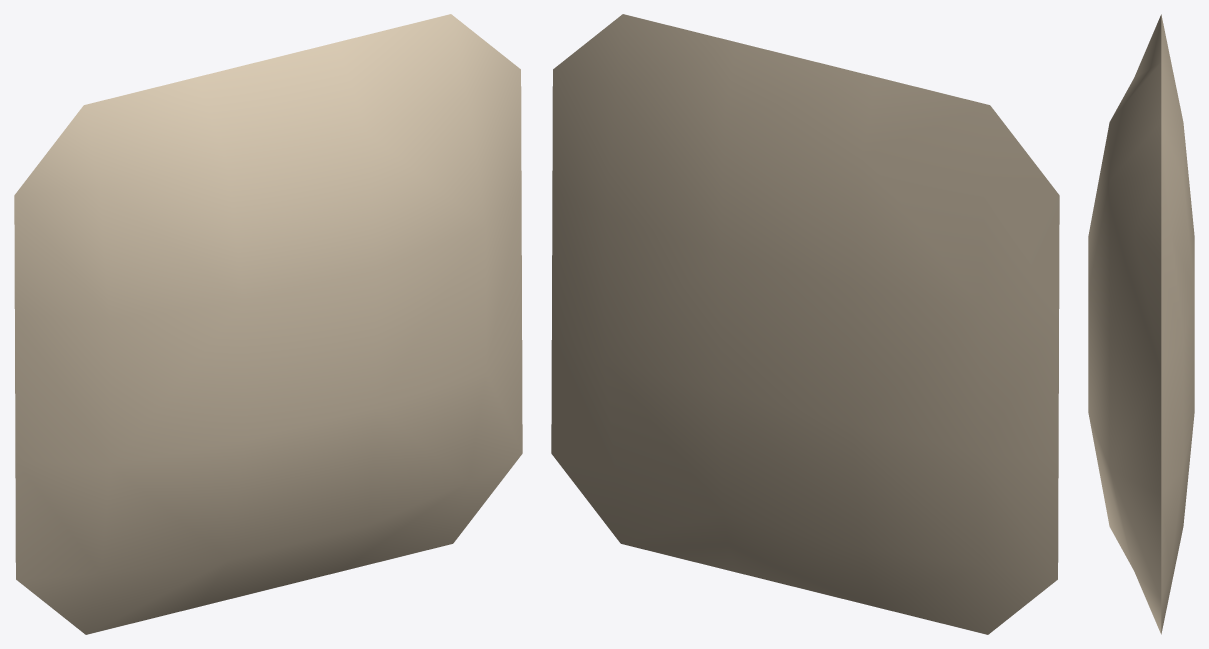
File: CreamCushion.glb
3 renders of one model, left to right at view 1: azimuth 30°, elevation 25°; view 2: azimuth 150°, elevation 25°; view 3: azimuth 270°, elevation 25°, orthographic. The views are drawn at different scales.
Parts seen in each view (by area): view 1: cushion; view 2: cushion; view 3: cushion.
Part boxes in pixels (x1,y1,x2,y2): cushion: (14,14,522,634); cushion: (551,14,1059,634); cushion: (1088,14,1194,634).
Size of the model in its own units: 0.6322 by 0.6322 by 0.1306.
Materials: 1 (1 with a texture image).
